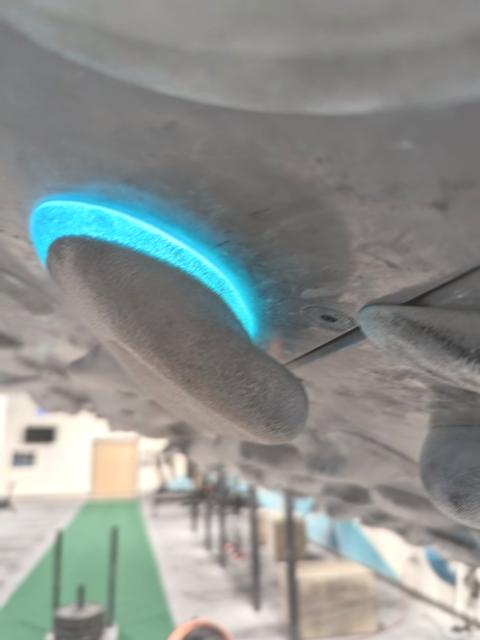undercling: (47, 237, 308, 440)
